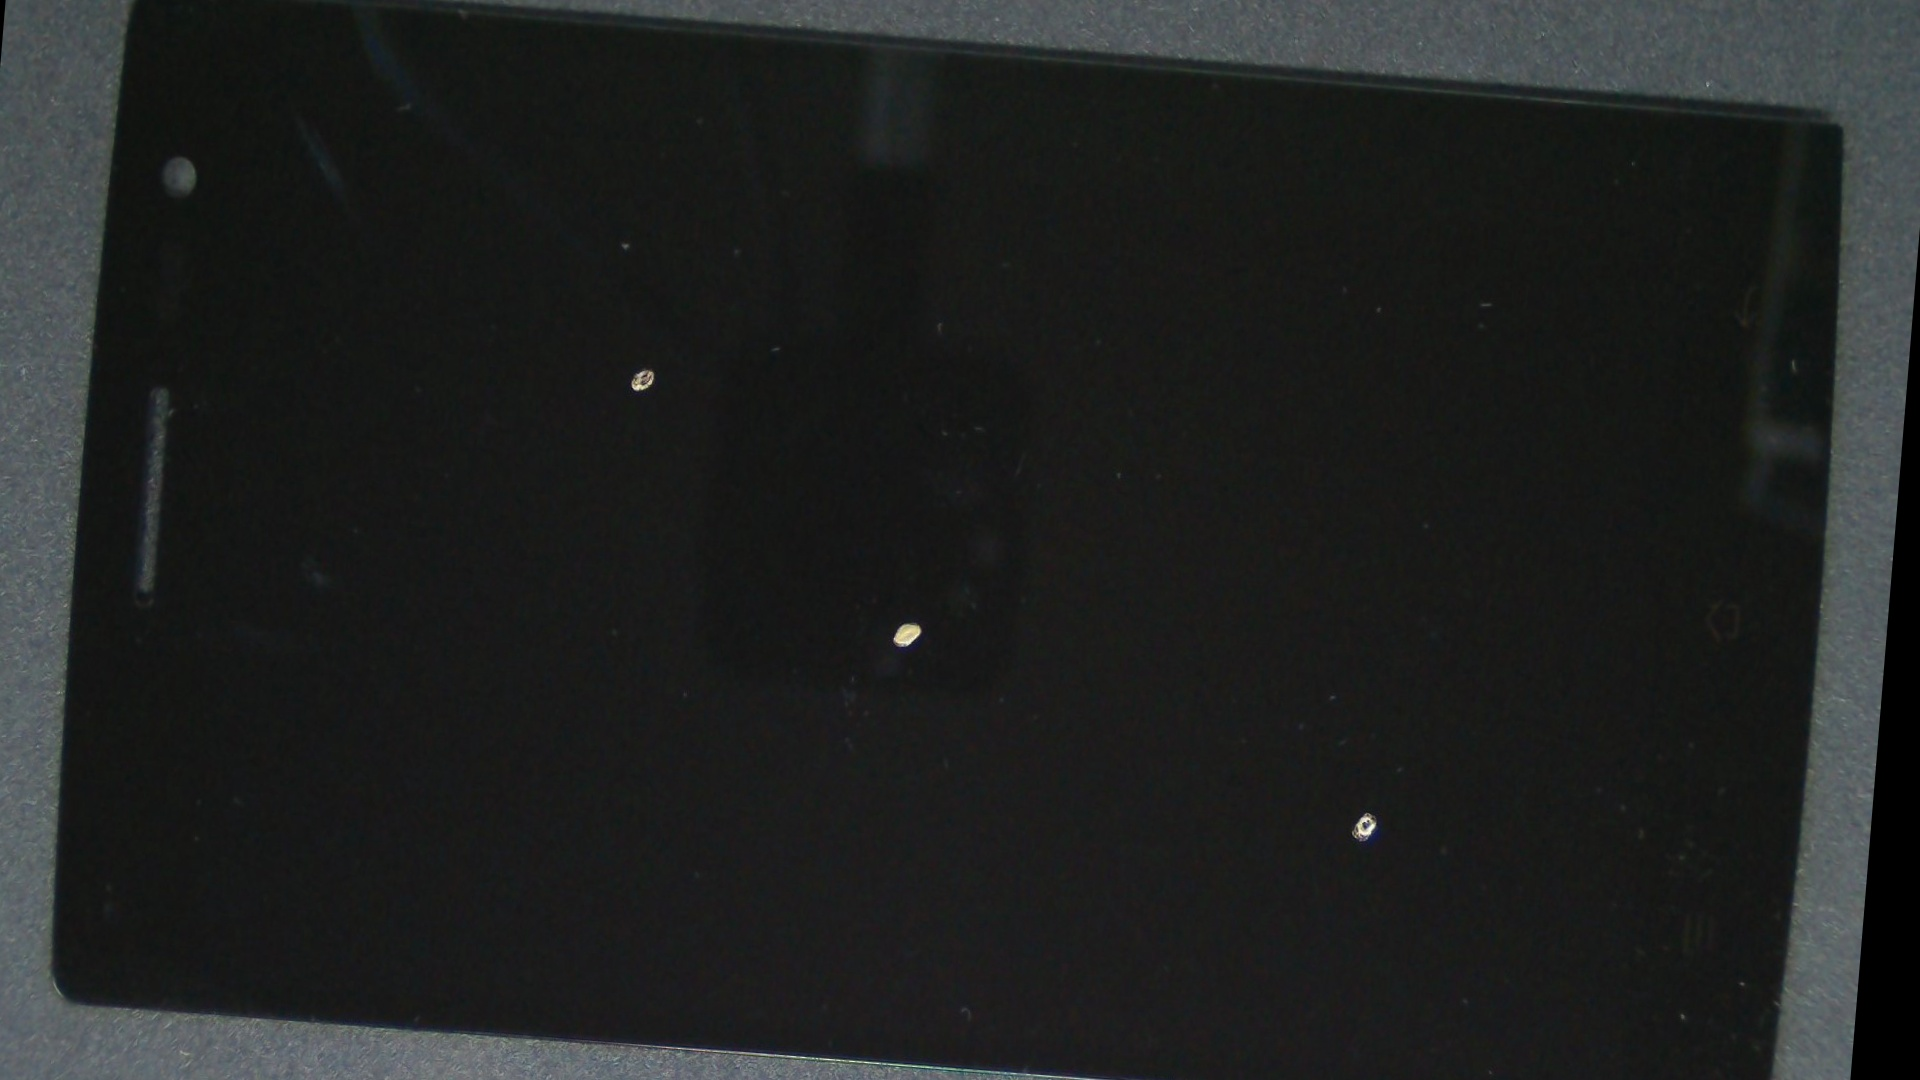oil: (625, 318, 1904, 1080), (407, 223, 1416, 1018), (293, 96, 996, 638)
